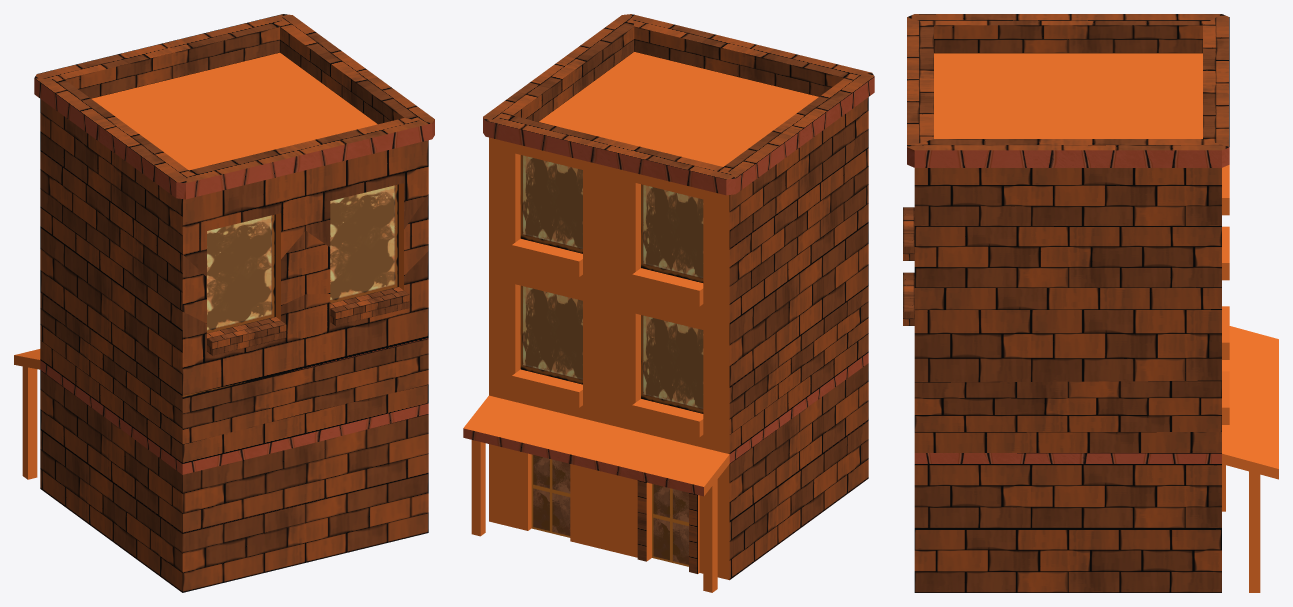
The model's file is Depaul_Building_8.fbx.
3 views of the same model, side by side, from view 1: azimuth 30°, elevation 25°; view 2: azimuth 150°, elevation 25°; view 3: azimuth 270°, elevation 25° (orthographic). The views are drawn at different scales.
Visible parts, largest first — view 1: building1; view 2: building1; view 3: building1.
Part boxes in pixels (x1,y1,x2,y2): building1: (14, 14, 434, 592); building1: (463, 14, 874, 592); building1: (903, 14, 1278, 592).
Bounding box in the file's own units: 33.07 × 50.39 × 38.5.
